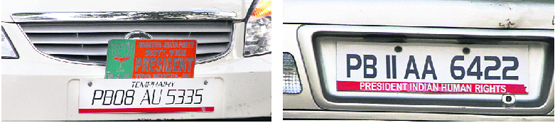number_plate: (334, 36, 532, 97), (77, 74, 225, 118)
